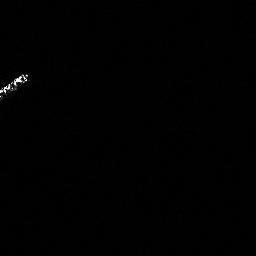ship: (1, 72, 30, 99)
